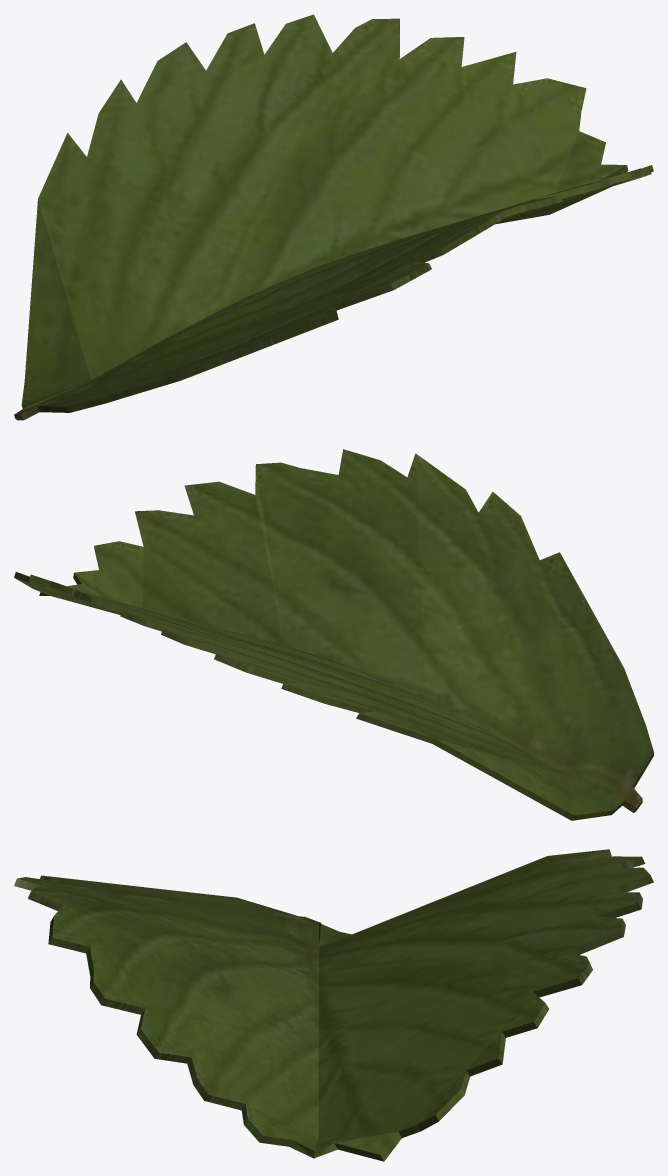
The model's file is leaf1_g1.dae.
3 renders of one model, top to bottom at view 1: azimuth 30°, elevation 25°; view 2: azimuth 150°, elevation 25°; view 3: azimuth 270°, elevation 25°, orthographic. The views are drawn at different scales.
Visible parts, largest first — view 1: Plane; view 2: Plane; view 3: Plane.
Boxes of the visible parts, left/top/right/bottom form: Plane: left=14, top=14, right=653, bottom=420; Plane: left=14, top=449, right=653, bottom=820; Plane: left=14, top=849, right=653, bottom=1161.
Bounding box in the file's own units: 0.1327 × 0.101 × 0.0426.
Materials: 1 (1 with a texture image).
